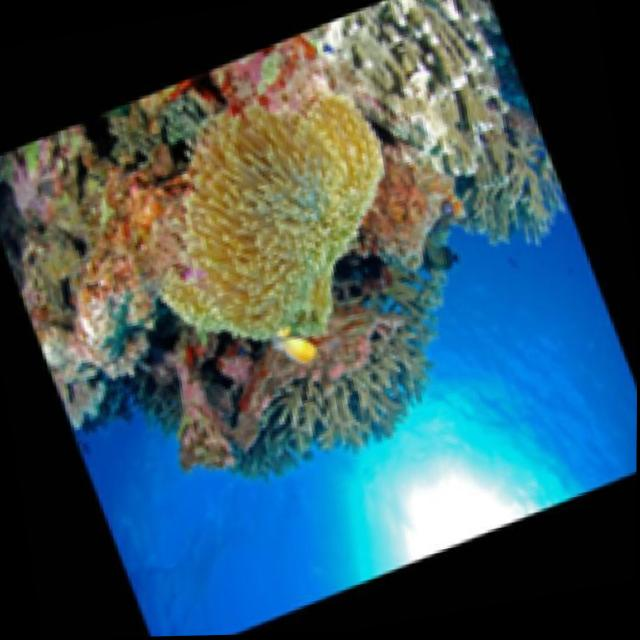Healthy Coral: (116, 70, 443, 385), (32, 142, 195, 400), (349, 0, 532, 180)
